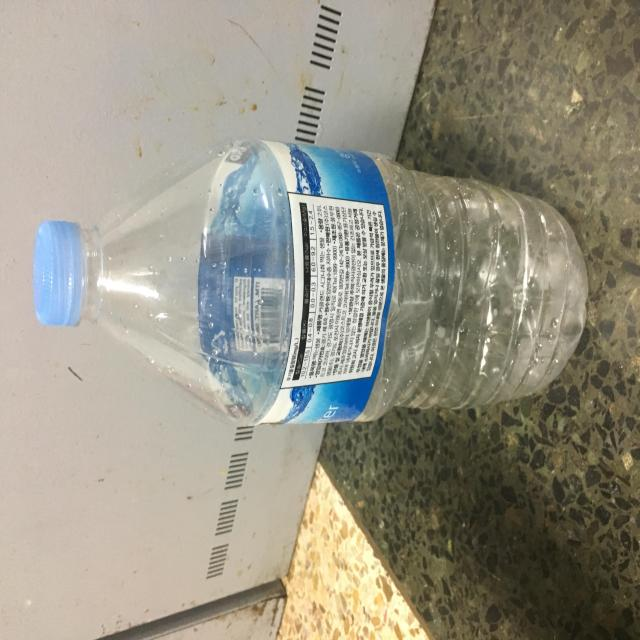bottle: (29, 128, 593, 422)
